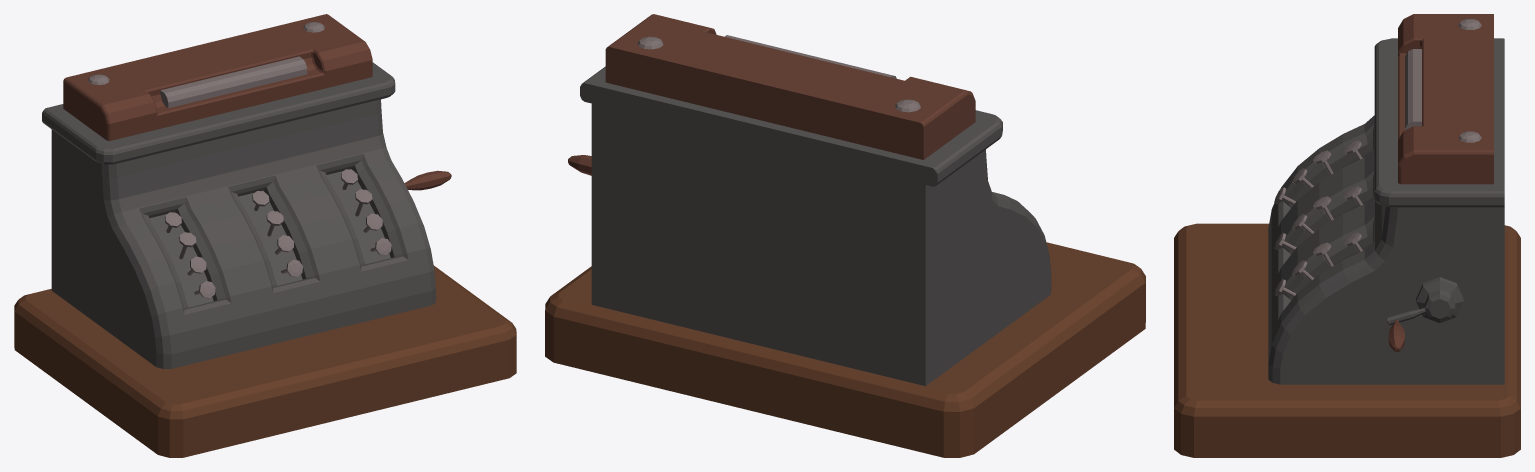
File: CashRegister.fbx
3 views of the same model, side by side, from view 1: azimuth 30°, elevation 25°; view 2: azimuth 150°, elevation 25°; view 3: azimuth 270°, elevation 25° (orthographic). The views are drawn at different scales.
Visible parts, largest first — view 1: CashRegister; view 2: CashRegister; view 3: CashRegister.
Boxes of the visible parts, x1=… form: CashRegister: x1=14, y1=14, x2=516, y2=457; CashRegister: x1=545, y1=14, x2=1145, y2=457; CashRegister: x1=1174, y1=14, x2=1520, y2=457.
Size of the model in its own units: 74.42 by 48.96 by 53.85.
